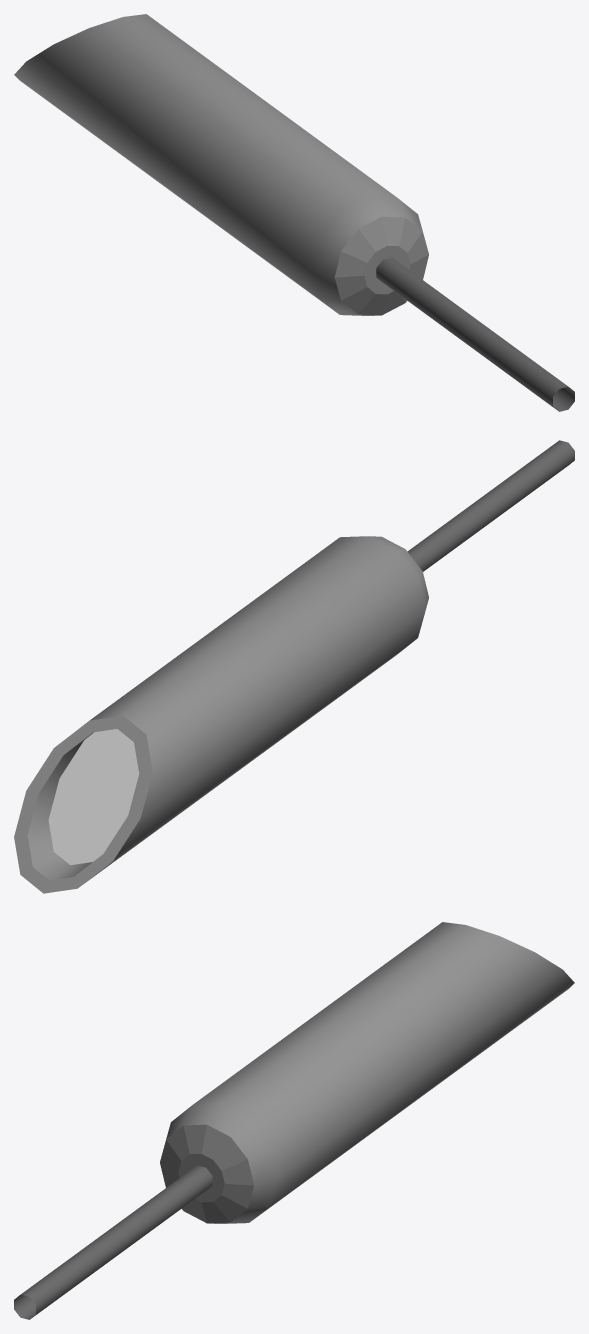
Rendered from Ceiling_Lamp_1_A.obj.
The picture shows the model from 3 angles, top to bottom: view 1: azimuth 30°, elevation 25°; view 2: azimuth 150°, elevation 25°; view 3: azimuth 330°, elevation 25°; orthographic projection.
Visible parts, largest first — view 1: Ceiling_Lamp_1_A; view 2: Ceiling_Lamp_1_A; view 3: Ceiling_Lamp_1_A.
Part boxes in pixels (left/top/right/bottom): Ceiling_Lamp_1_A: left=14, top=14, right=574, bottom=411; Ceiling_Lamp_1_A: left=14, top=440, right=574, bottom=893; Ceiling_Lamp_1_A: left=14, top=922, right=574, bottom=1319.
Bounding box in the file's own units: 0.04 × 0.04 × 0.3153.
